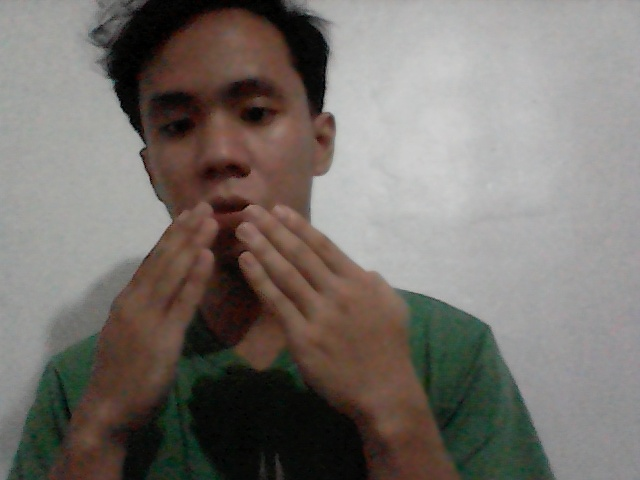Thank You: (47, 194, 472, 445)
